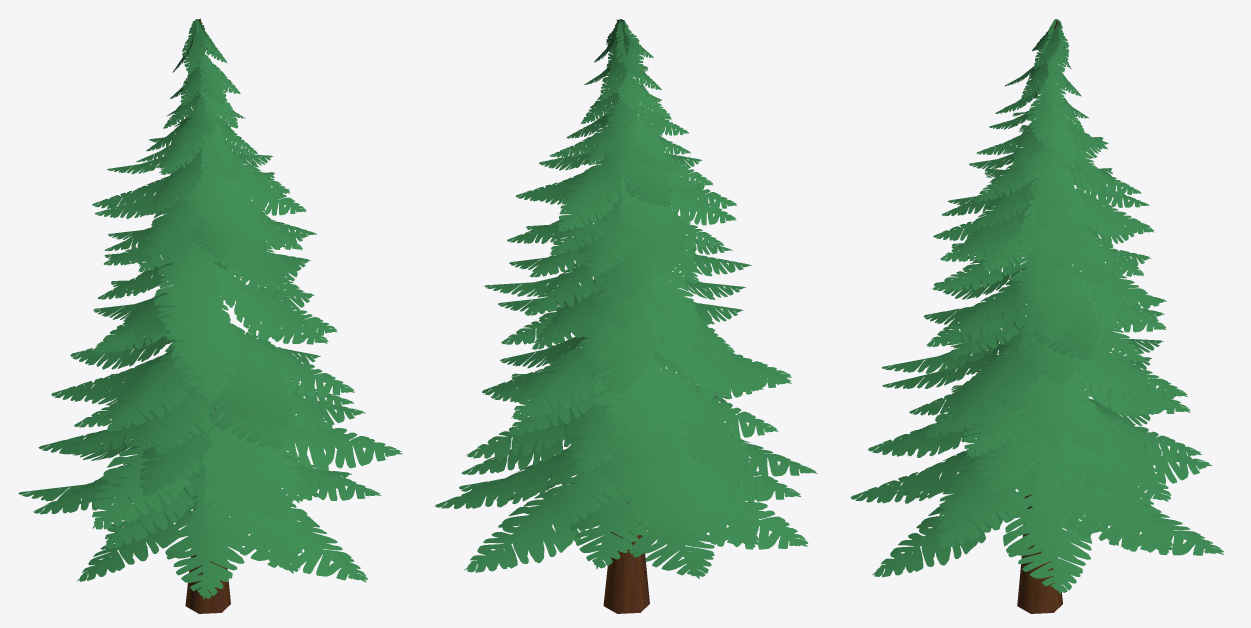
The model's file is st-pine-3.glb.
3 views of the same model, side by side, from view 1: azimuth 30°, elevation 25°; view 2: azimuth 150°, elevation 25°; view 3: azimuth 270°, elevation 25° (orthographic). The views are drawn at different scales.
Visible parts, largest first — view 1: STPine3; view 2: STPine3; view 3: STPine3.
Part boxes in pixels (x1,y1,x2,y2): STPine3: [18, 18, 402, 613]; STPine3: [435, 19, 817, 613]; STPine3: [851, 19, 1223, 613].
Bounding box in the file's own units: 7.54 × 12.87 × 7.74.
Materials: 2 (2 with a texture image).
